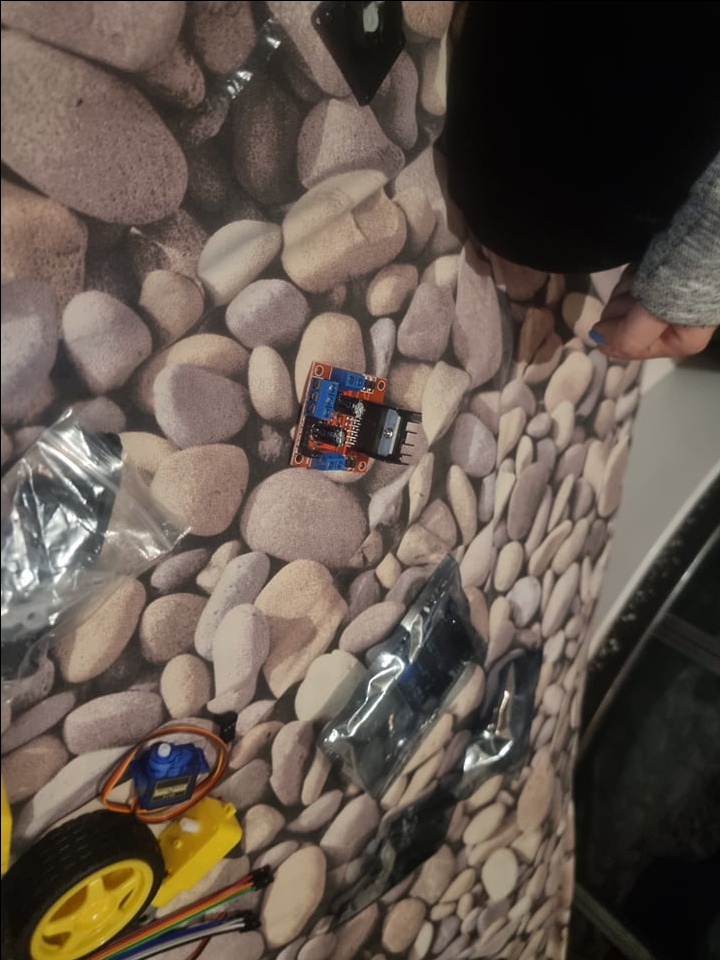MOTOR: (286, 357, 424, 473)
